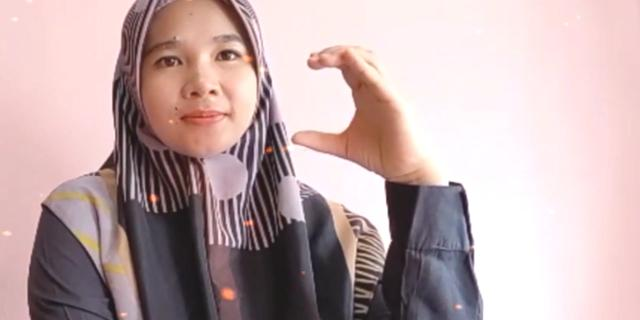C: (292, 42, 424, 178)
